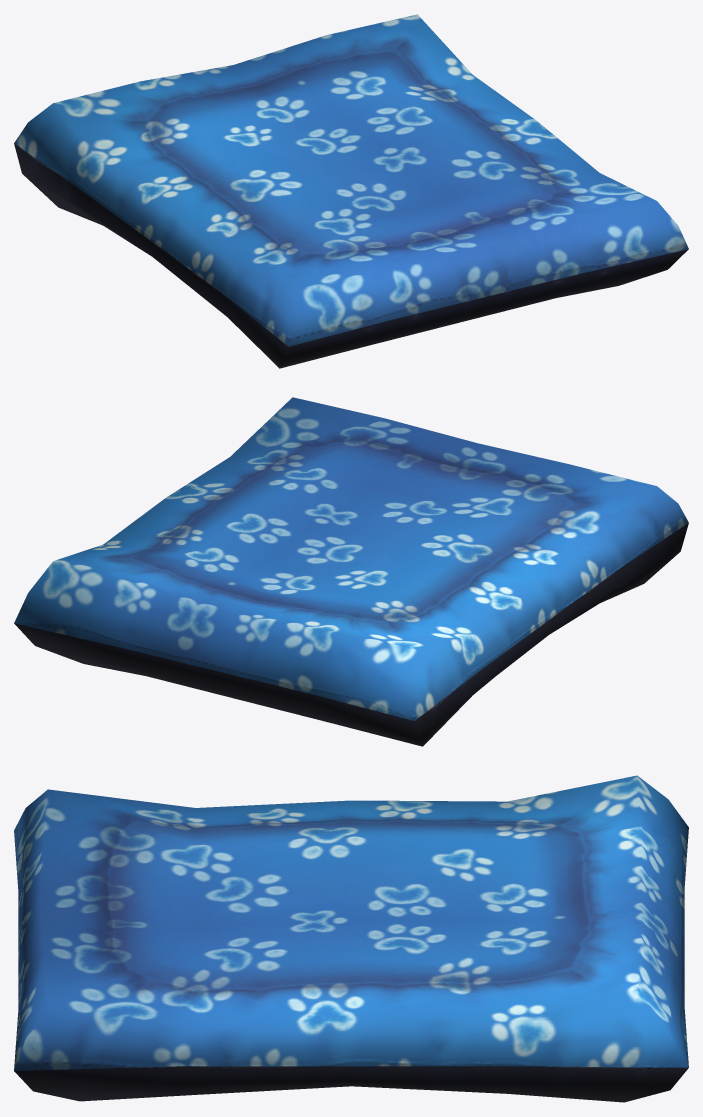
The model's file is bed.fbx.
3 renders of one model, top to bottom at view 1: azimuth 30°, elevation 25°; view 2: azimuth 150°, elevation 25°; view 3: azimuth 270°, elevation 25°, orthographic. The views are drawn at different scales.
Visible parts, largest first — view 1: bed_low; view 2: bed_low; view 3: bed_low.
Boxes of the visible parts, bbox=[...] form: bed_low: bbox=[14, 14, 688, 368]; bed_low: bbox=[14, 397, 688, 746]; bed_low: bbox=[14, 775, 688, 1102].
Size of the model in its own units: 163 by 38.92 by 193.
1 material, 1 textured.
